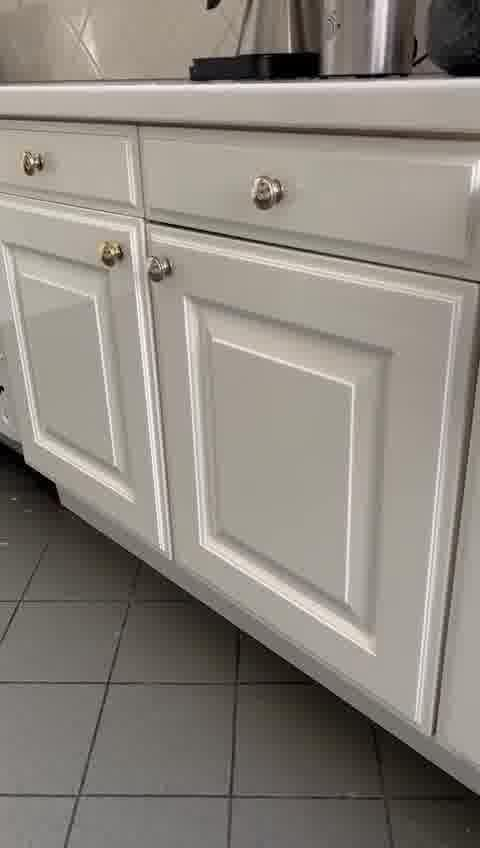cabinet_door: (150, 251, 474, 672), (2, 213, 149, 531), (145, 137, 480, 254), (1, 122, 131, 198)
handle: (249, 171, 287, 221), (147, 252, 176, 292), (19, 145, 48, 182), (99, 241, 120, 277)
